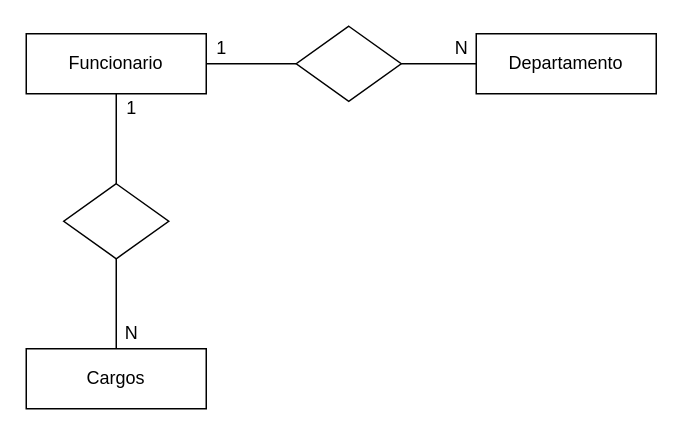
Image size: 683x435. Some labels were removed from this diagram. Here are the shapes that lost their labels. From the top down, the centre of each, then its label:
the point at 348,63: Participa
the point at 115,220: Possui
